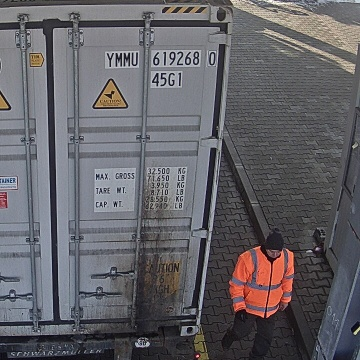serial_id: (106, 51, 216, 66)
